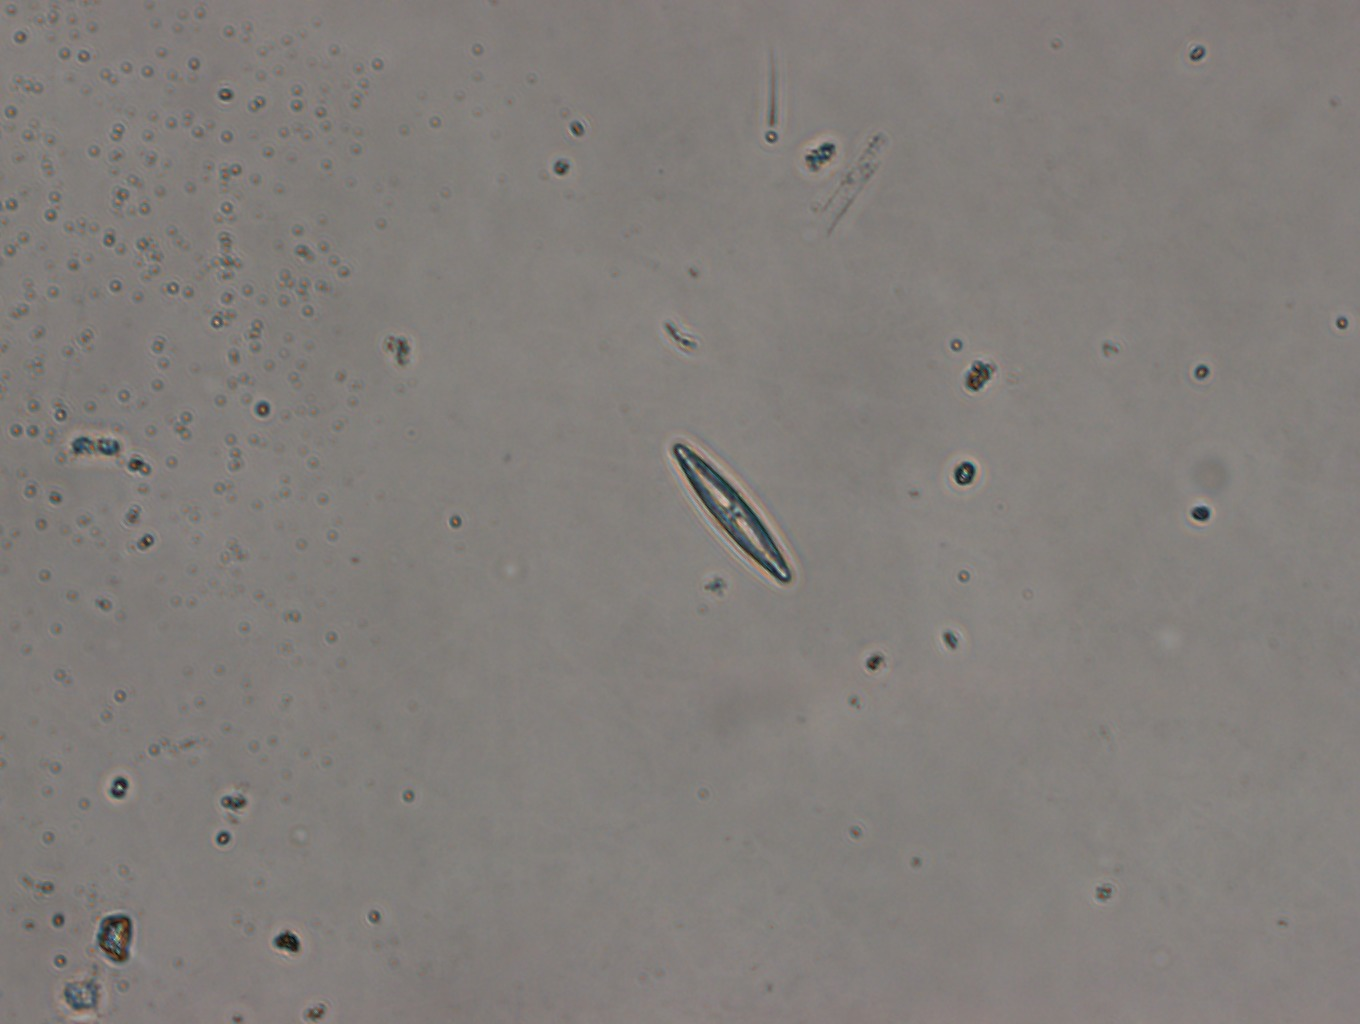navicula: (672, 437, 794, 587)
